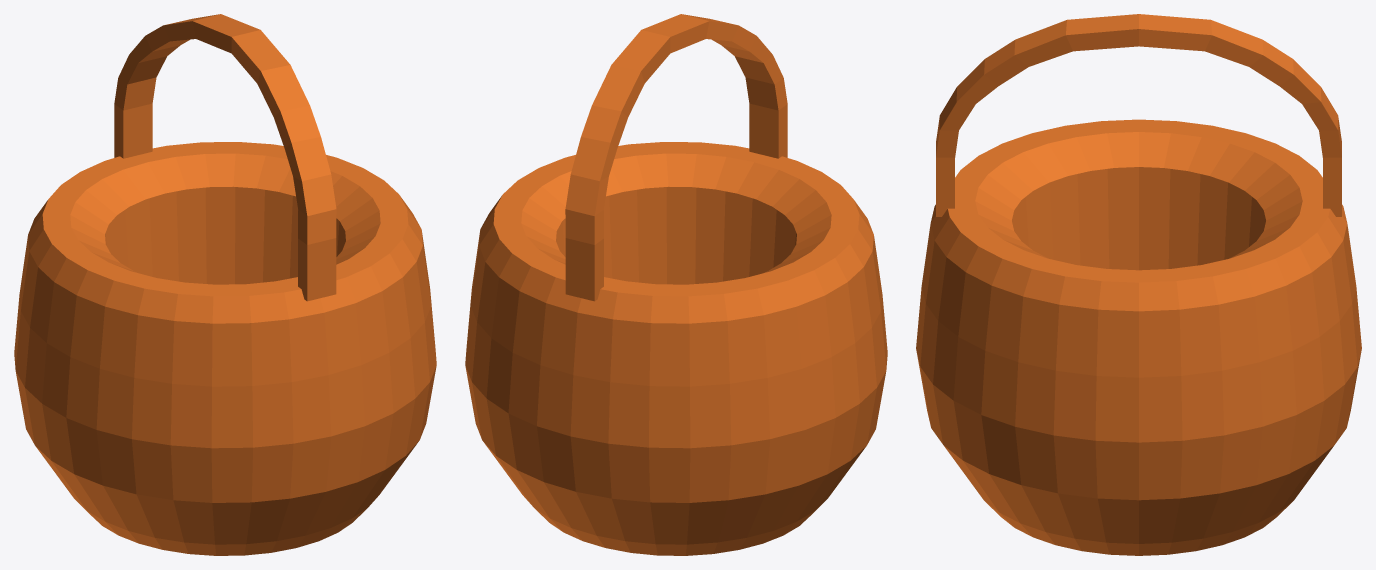
File: candyBasket.glb
3 renders of one model, left to right at view 1: azimuth 30°, elevation 25°; view 2: azimuth 150°, elevation 25°; view 3: azimuth 270°, elevation 25°, orthographic. The views are drawn at different scales.
Parts seen in each view (by area): view 1: Cube; view 2: Cube; view 3: Cube.
Boxes of the visible parts, x1,y1,x2,y2 form: Cube: [14, 14, 436, 555]; Cube: [465, 14, 887, 555]; Cube: [916, 14, 1361, 555].
Size of the model in its own units: 2.14 by 2.55 by 2.14.
